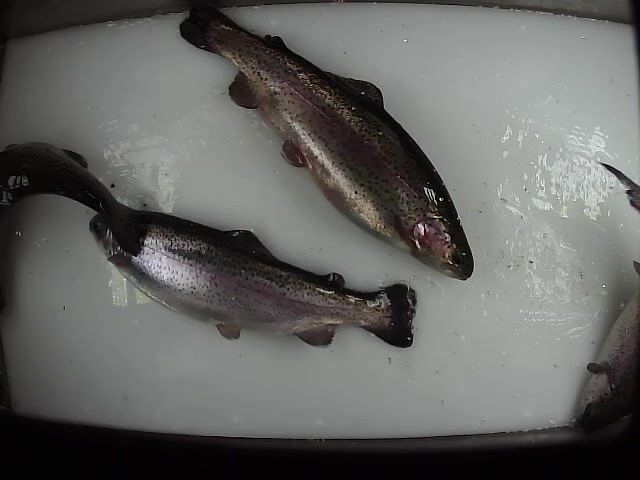Fish: (178, 6, 474, 282), (89, 208, 416, 349)
